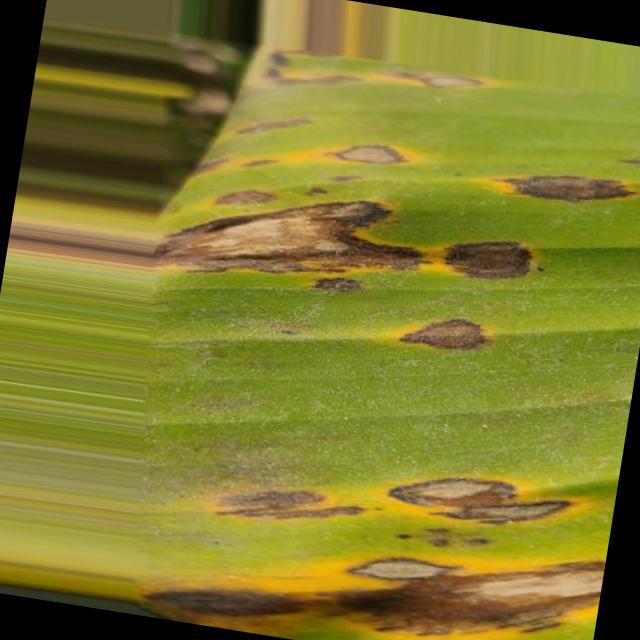Banana_Yellow_Sigatoka: (103, 83, 640, 421), (160, 415, 618, 640)
